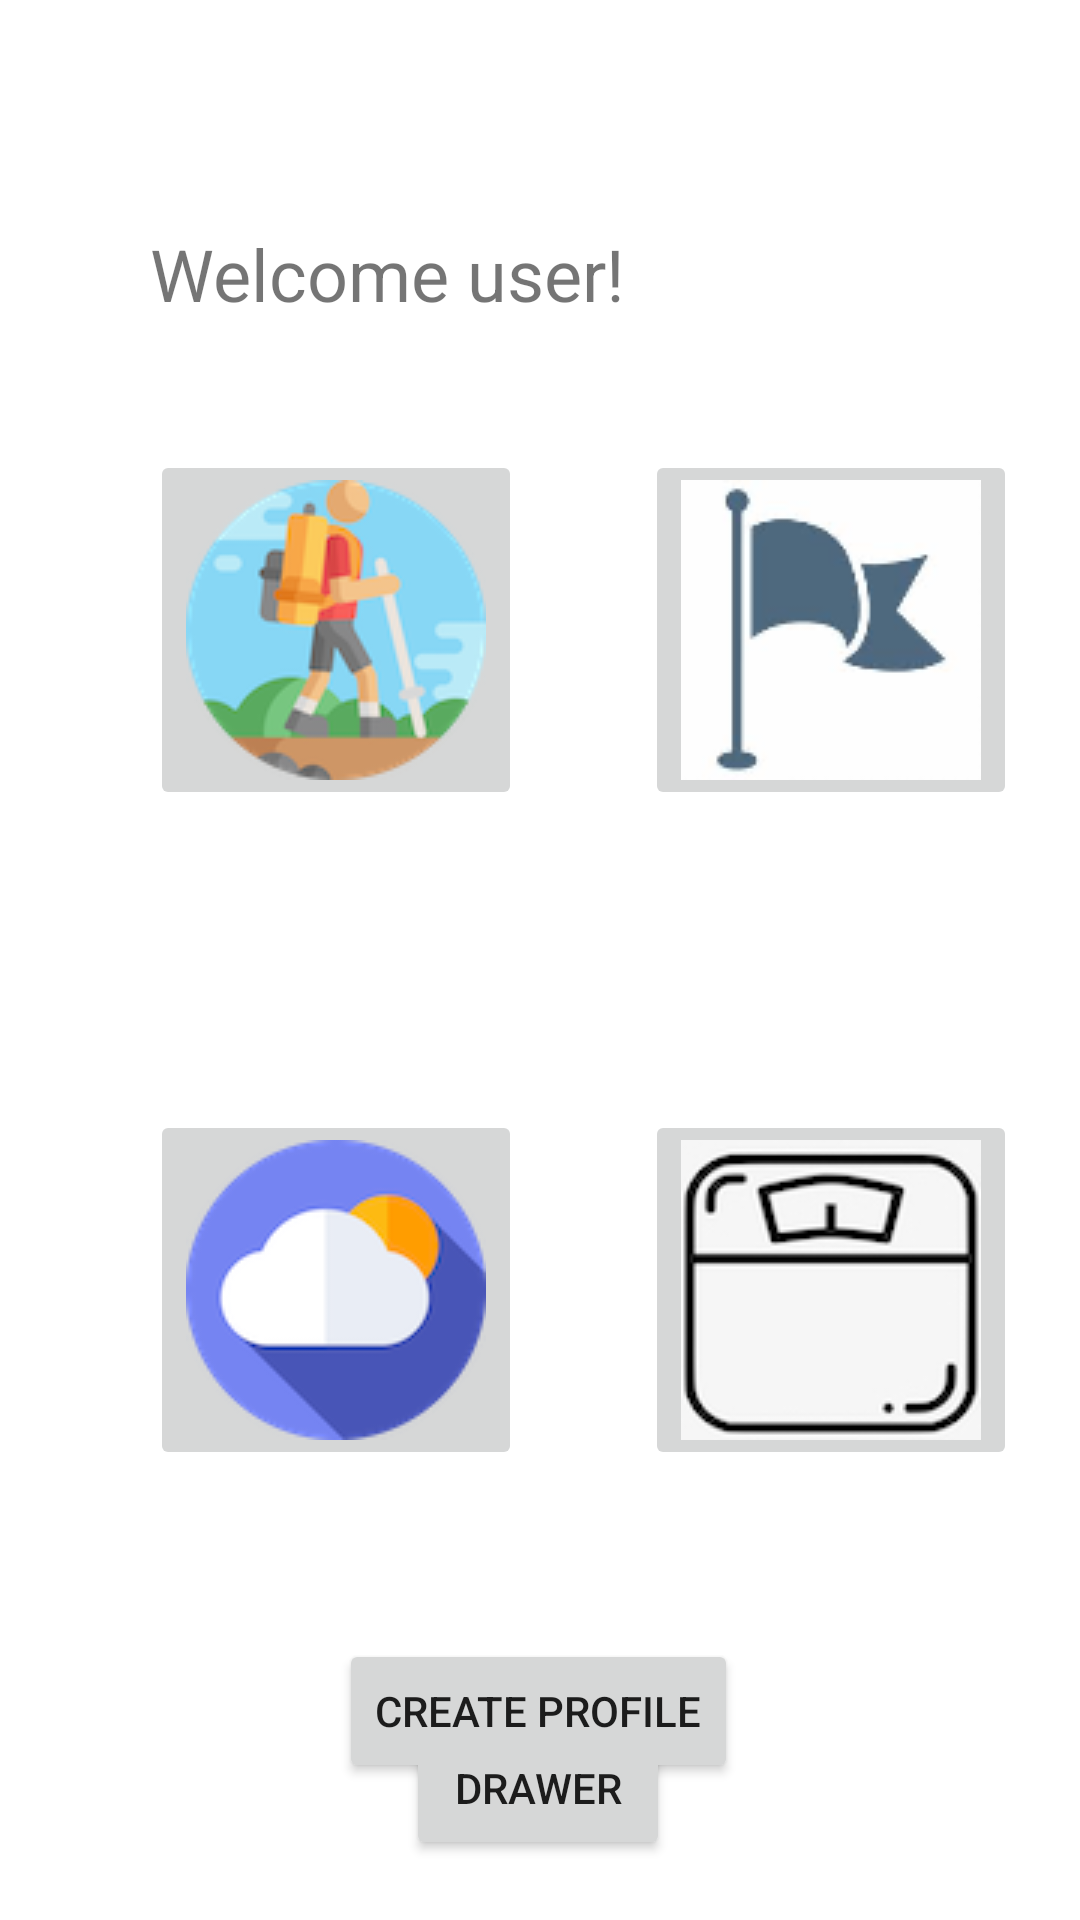

Named icons in this screenshot (1080*1920) and their centers, [x,y]:
hiking: [336,630]
scale: [831,1290]
smallflag: [831,630]
weather: [336,1290]
